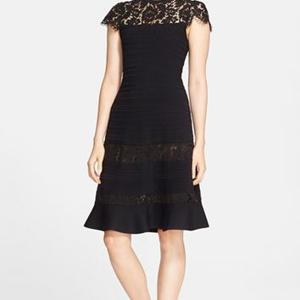C_skirt: (81, 79, 202, 237)
S_dress: (69, 1, 219, 246)
